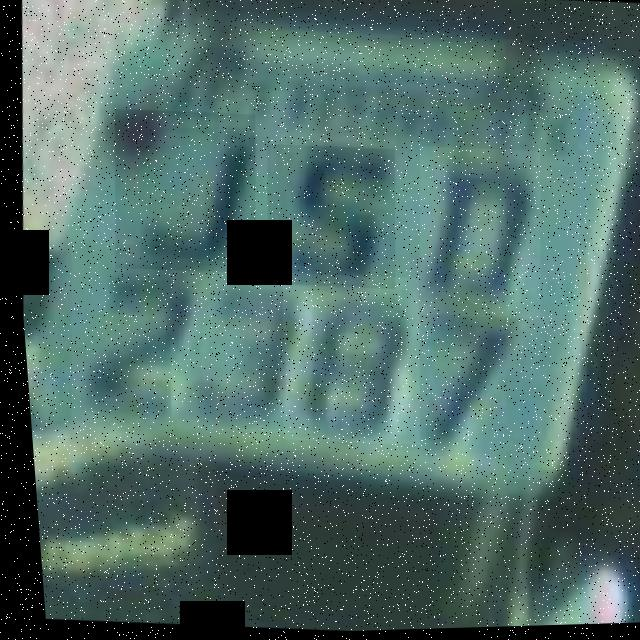1: (15, 248, 77, 425)
2: (41, 240, 209, 433)
3: (155, 258, 316, 438)
7: (379, 296, 529, 475)
8: (267, 271, 424, 450)
D: (405, 145, 546, 324)
J: (102, 107, 262, 279)
S: (254, 142, 400, 294)
